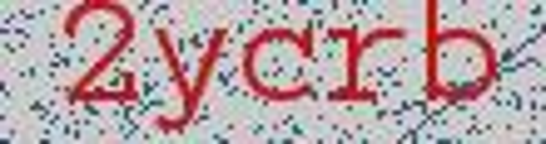2: (55, 1, 147, 112)
b: (415, 1, 506, 111)
c: (242, 20, 319, 106)
r: (321, 21, 414, 114)
y: (148, 23, 234, 137)
